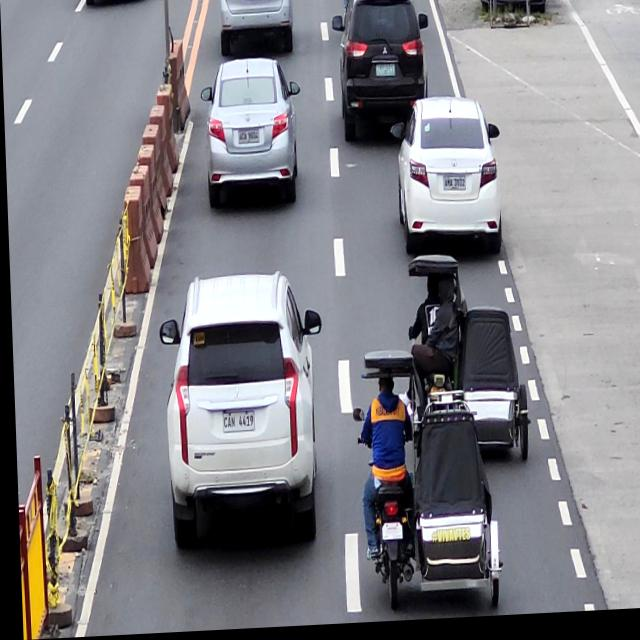Car: (155, 268, 325, 559), (387, 97, 503, 268), (199, 60, 303, 216), (331, 0, 431, 149), (218, 0, 294, 58)
License-Plate: (219, 414, 252, 435), (377, 525, 399, 544), (237, 130, 259, 147), (442, 180, 465, 196), (375, 68, 395, 80)
Tricycle: (350, 348, 497, 618), (405, 253, 528, 477)
